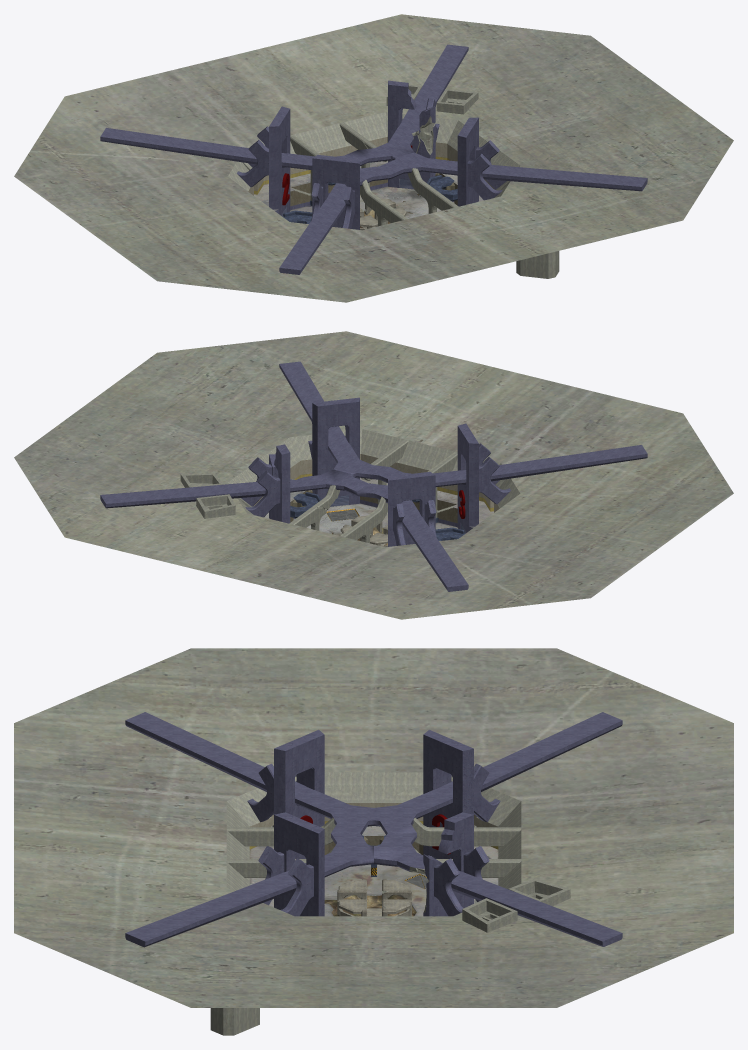
The model's file is foundation.glb.
3 views of the same model, one above another, from view 1: azimuth 30°, elevation 25°; view 2: azimuth 150°, elevation 25°; view 3: azimuth 270°, elevation 25° (orthographic). The views are drawn at different scales.
Parts seen in each view (by area): view 1: Object_23, Object_5, Object_20, Object_6, Object_16, Object_7; view 2: Object_23, Object_5, Object_20, Object_6, Object_16, Object_7, Object_8; view 3: Object_23, Object_5, Object_20, Object_8, Object_6.
Part boxes in pixels (x1,y1,x2,y2): Object_23: (14, 14, 733, 302); Object_5: (100, 44, 647, 274); Object_20: (254, 160, 483, 218); Object_6: (248, 137, 495, 195); Object_16: (282, 175, 457, 223); Object_7: (290, 166, 457, 210); Object_23: (14, 331, 733, 619); Object_5: (100, 361, 647, 591); Object_20: (264, 477, 493, 535); Object_6: (252, 454, 499, 512); Object_16: (290, 492, 465, 540); Object_7: (290, 483, 457, 527); Object_8: (340, 515, 387, 547); Object_23: (14, 648, 733, 1035); Object_5: (125, 712, 622, 947); Object_20: (249, 826, 498, 916); Object_8: (337, 879, 411, 916); Object_6: (249, 803, 498, 849).
Size of what is drawn, in the model's own units: 226 by 51.24 by 191.
Materials: 22 (20 with a texture image).
